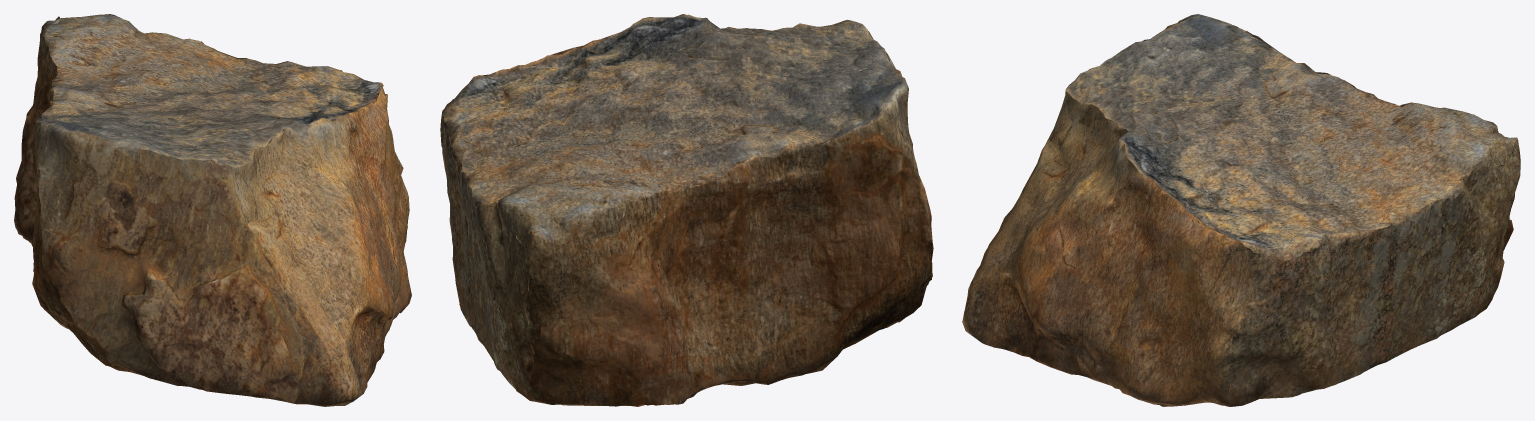
Rendered from namaqualand_boulder_03.glb.
The picture shows the model from 3 angles, left to right: view 1: azimuth 30°, elevation 25°; view 2: azimuth 150°, elevation 25°; view 3: azimuth 270°, elevation 25°; orthographic projection. The views are drawn at different scales.
Visible parts, largest first — view 1: boulder_03_LOD0; view 2: boulder_03_LOD0; view 3: boulder_03_LOD0.
Part boxes in pixels (x1,y1,x2,y2): boulder_03_LOD0: [14, 14, 411, 406]; boulder_03_LOD0: [440, 14, 933, 406]; boulder_03_LOD0: [962, 14, 1520, 406].
Bounding box in the file's own units: 2.4 × 1.48 × 3.07.
1 material, 1 textured.
